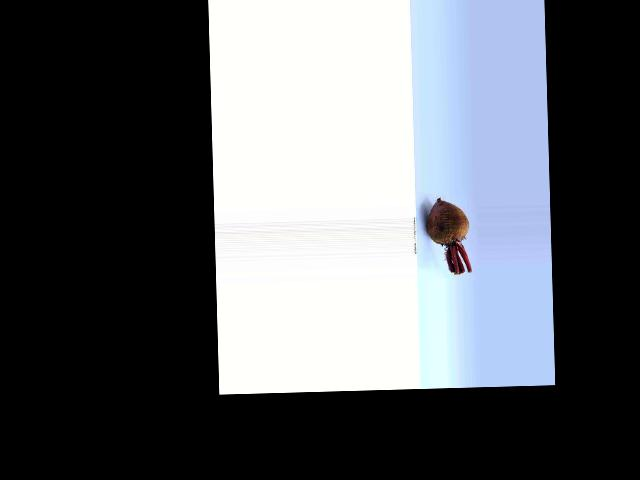beet: (426, 198, 470, 274)
